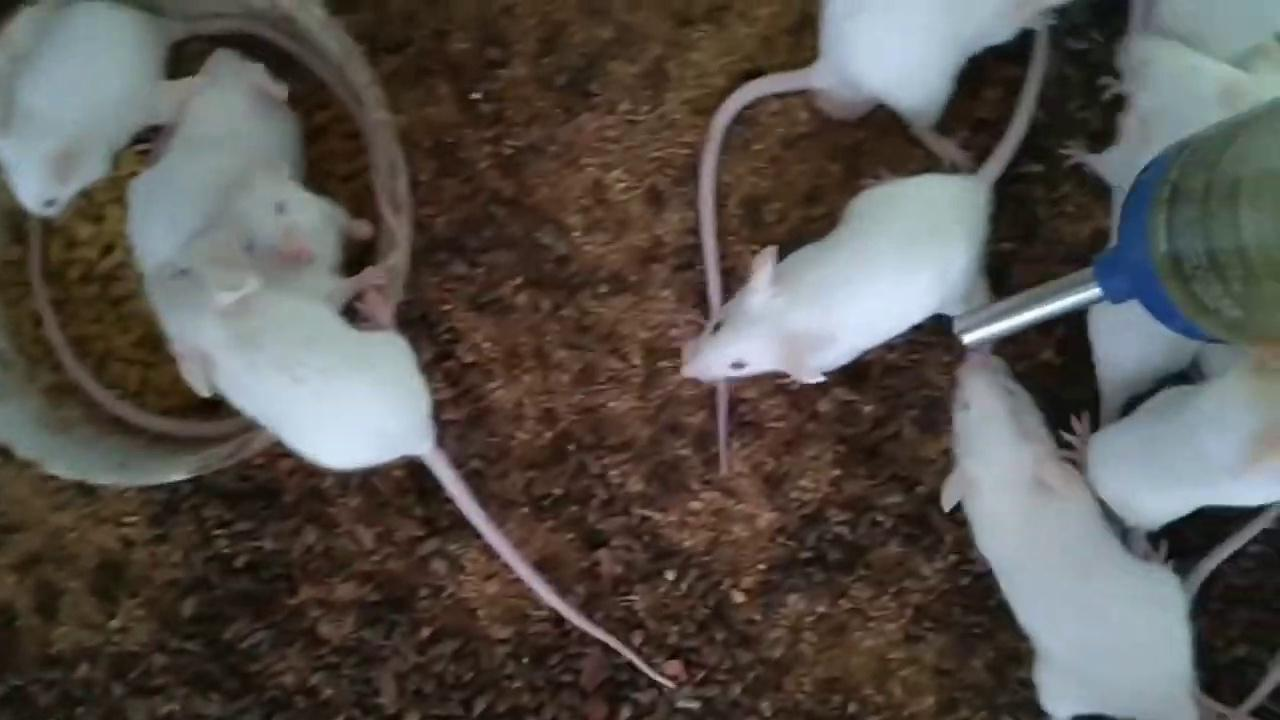rat: (146, 255, 674, 688), (700, 0, 1074, 474), (680, 30, 1057, 385), (942, 348, 1198, 720), (0, 0, 361, 217), (1062, 347, 1280, 562)
